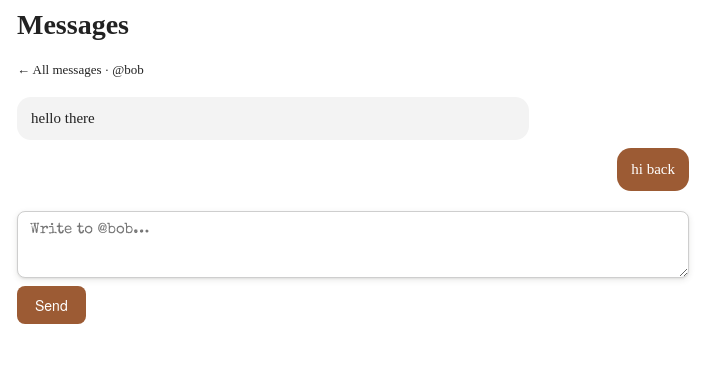
Test: a thread › explains a lost mutual favourite rather than failing generically
Expected: the list item "hello there" is shown, [17,96,529,140]
Type "hello?" into the text box named "Message" at [353, 244], box [17,211,689,278]
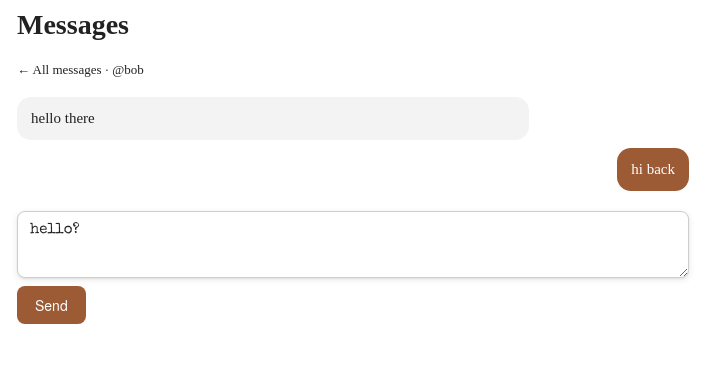
Click the button "Send" at [51, 305], box [17,286,86,324]
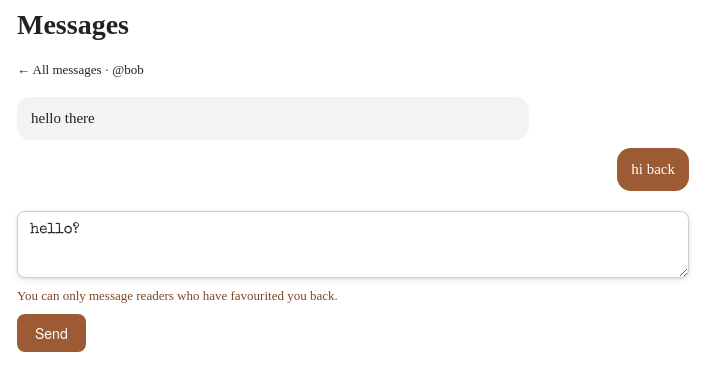
Expected: the message shows "favourited you back", [17,288,338,303]
